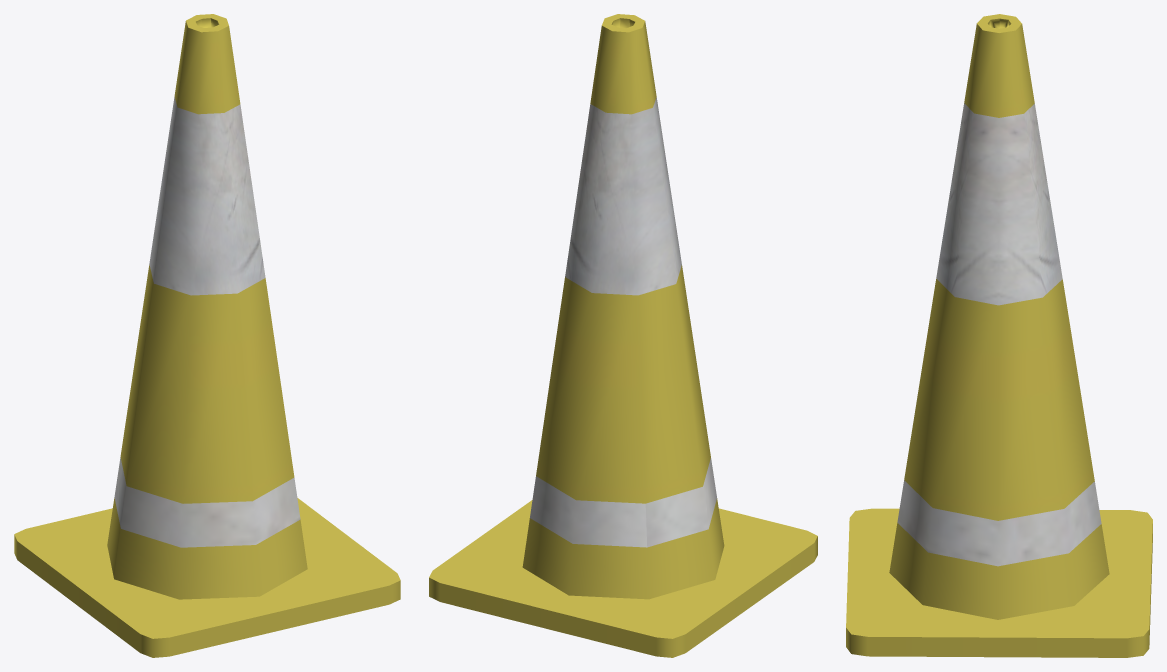
3 views of the same model, side by side, from view 1: azimuth 30°, elevation 25°; view 2: azimuth 150°, elevation 25°; view 3: azimuth 270°, elevation 25° (orthographic). The views are drawn at different scales.
Parts seen in each view (by area): view 1: objPylon__44_1.003; view 2: objPylon__44_1.003; view 3: objPylon__44_1.003.
Boxes of the visible parts, <box> form: objPylon__44_1.003: <box>14,14,400,657</box>; objPylon__44_1.003: <box>429,14,817,657</box>; objPylon__44_1.003: <box>846,14,1152,657</box>.
Size of the model in its own units: 8.05 by 16.49 by 8.05.
